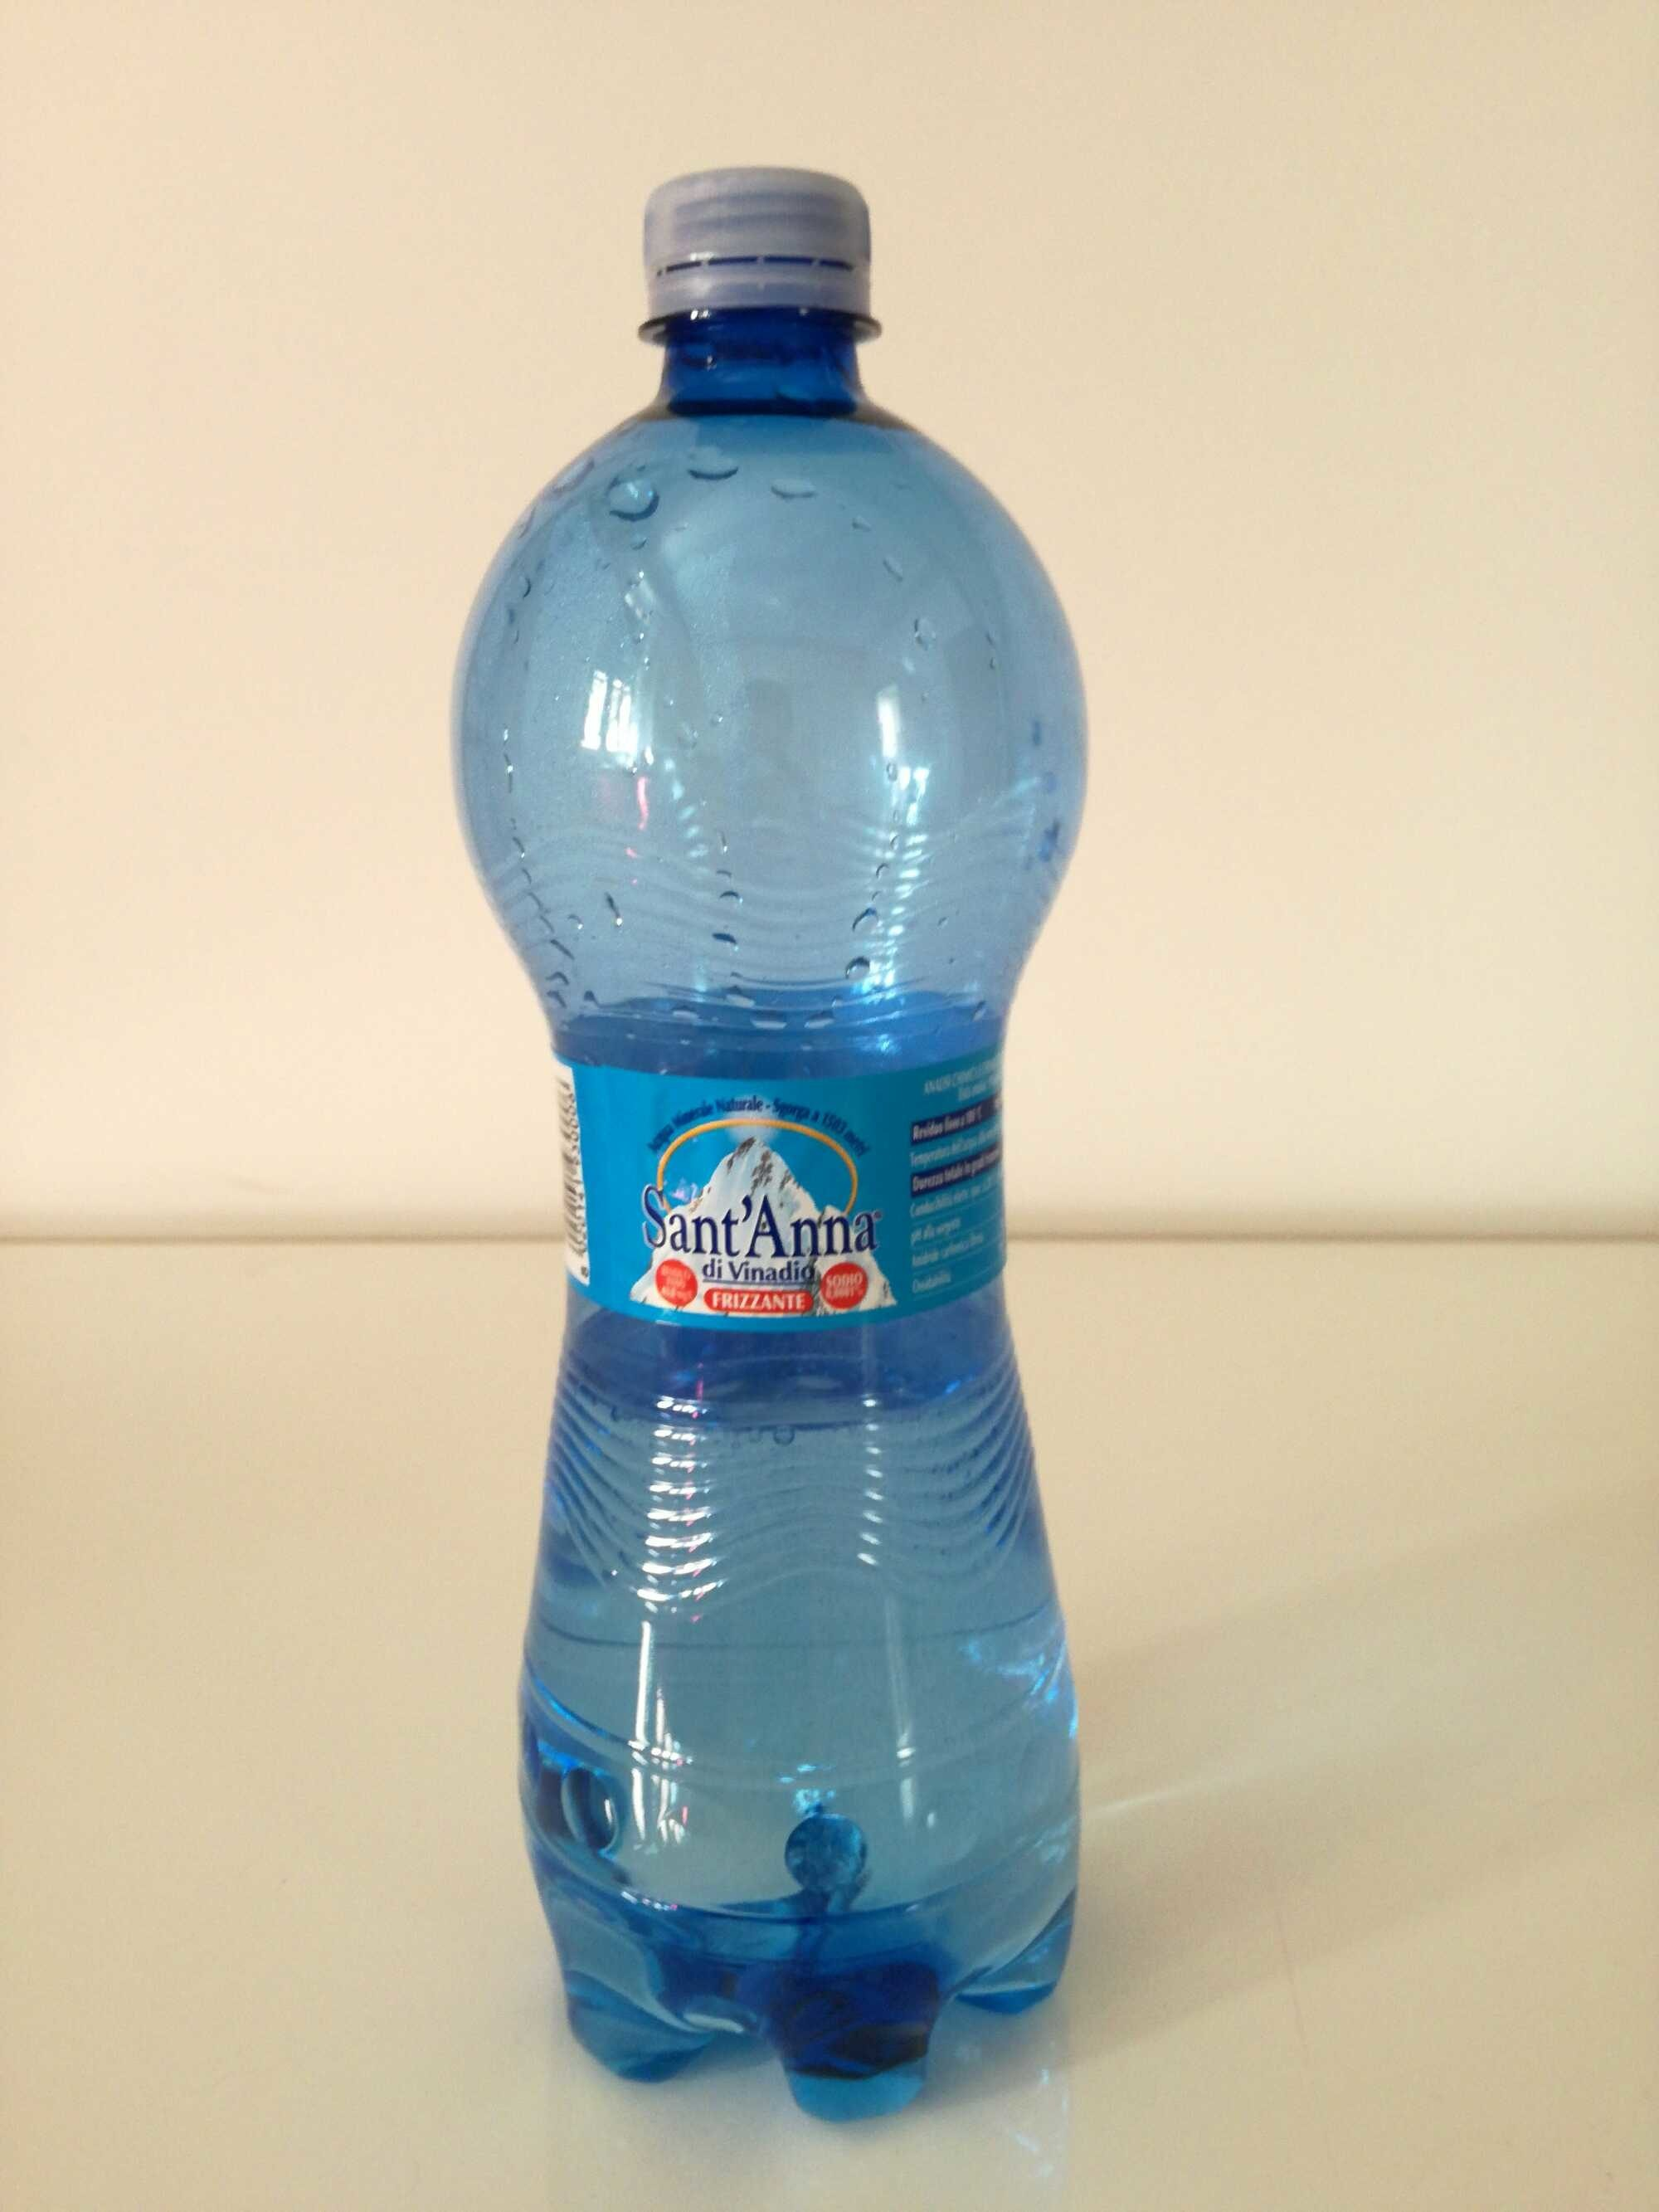PlasticBottle: (436, 153, 1138, 2107)
